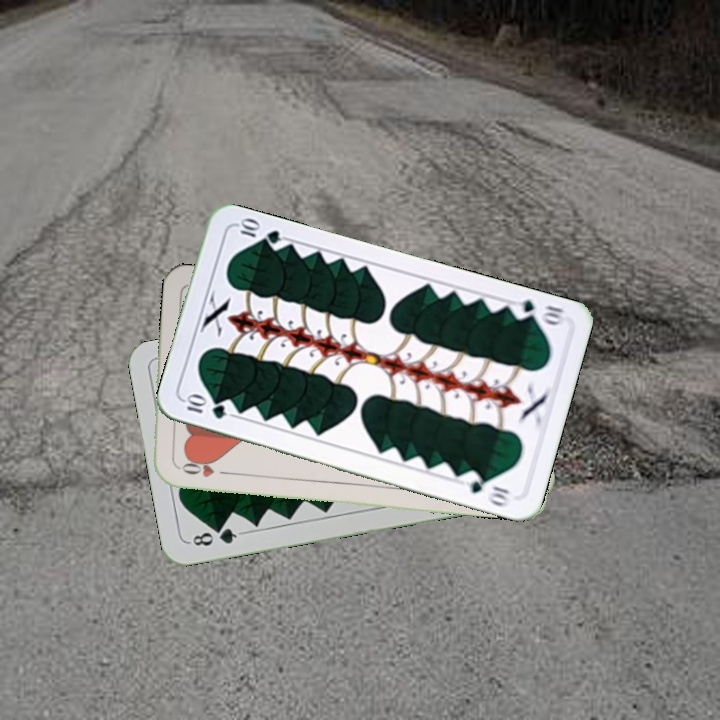G10: (507, 295, 568, 328), (181, 392, 229, 422)
G8: (185, 523, 244, 549)
HO: (174, 458, 233, 480)
